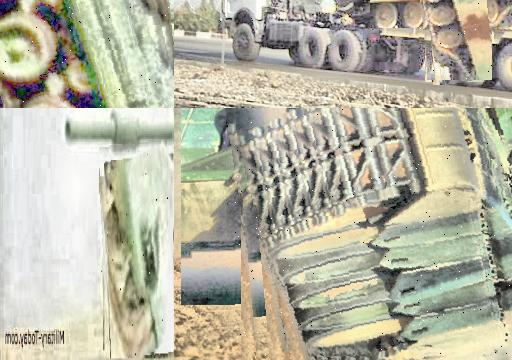tanks: (236, 109, 512, 360), (1, 1, 175, 109), (101, 140, 169, 359), (423, 1, 493, 80), (66, 114, 175, 147)
